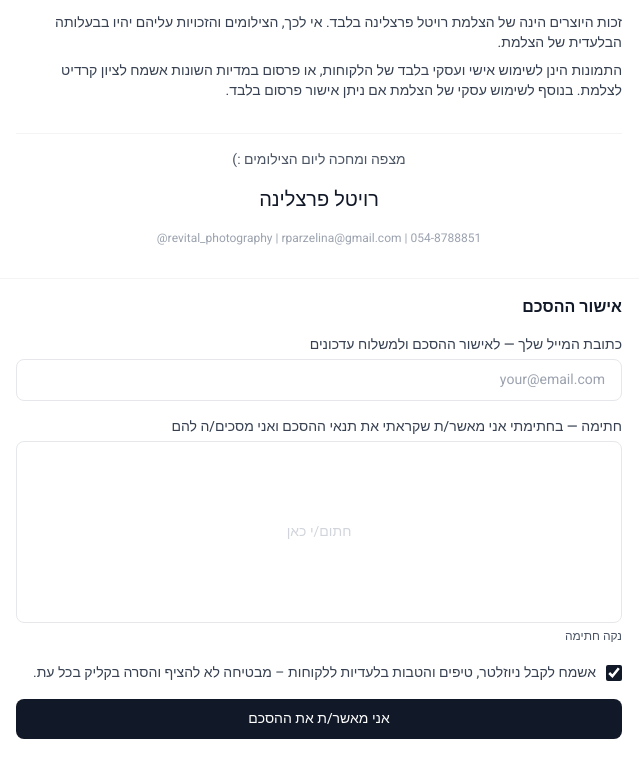
ClientSigning › requires a signature before submitting
(page scrolled)
In the field with placeholder "your@email.com": (319, 380) [16,359,622,401], type "client@example.com"
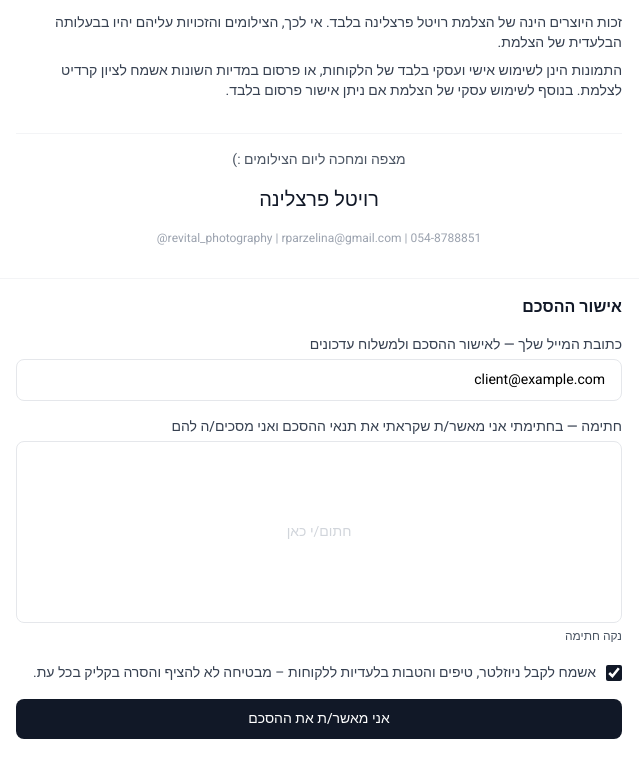
Submit the form with placeholder "your@email.com", box [16,335,622,739]
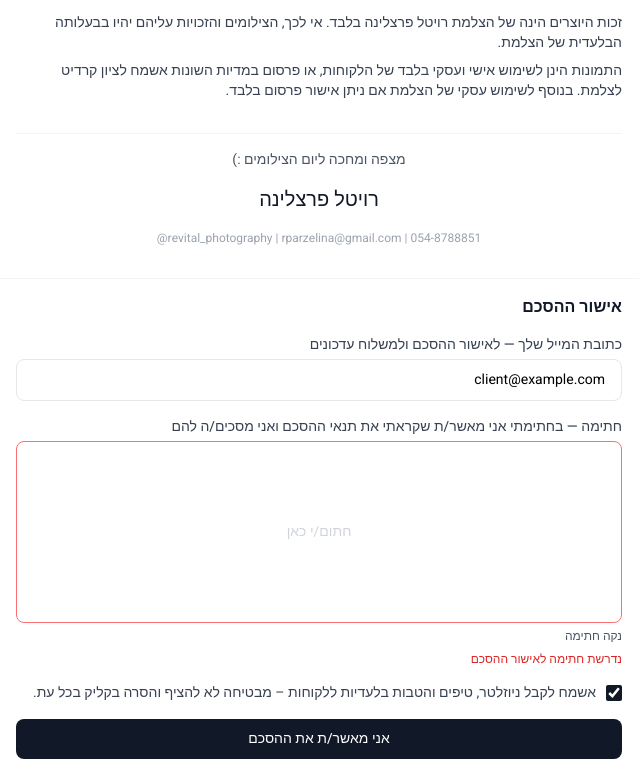
expect the text "נדרשת חתימה לאישור ההסכם" is shown: met, box [471,650,622,668]
